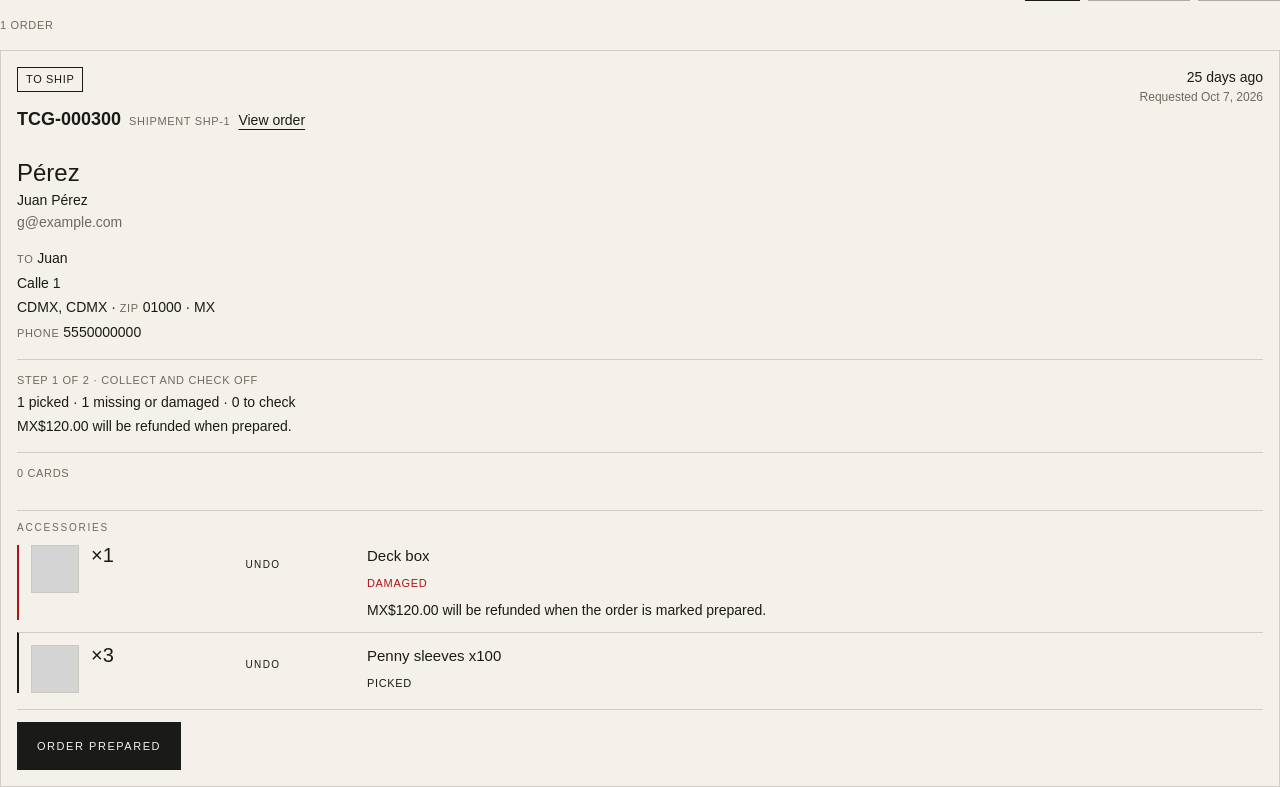
Test: QA §AC.gates · el diálogo de preparado habla del tipo de renglón que falta › EN · un solo accesorio faltante: ningún texto del diálogo dice «card»
This screenshot has width=1280, height=787.
(page scrolled)
Click the button "Order prepared" at coordinates (99, 746), box [17,722,181,770]
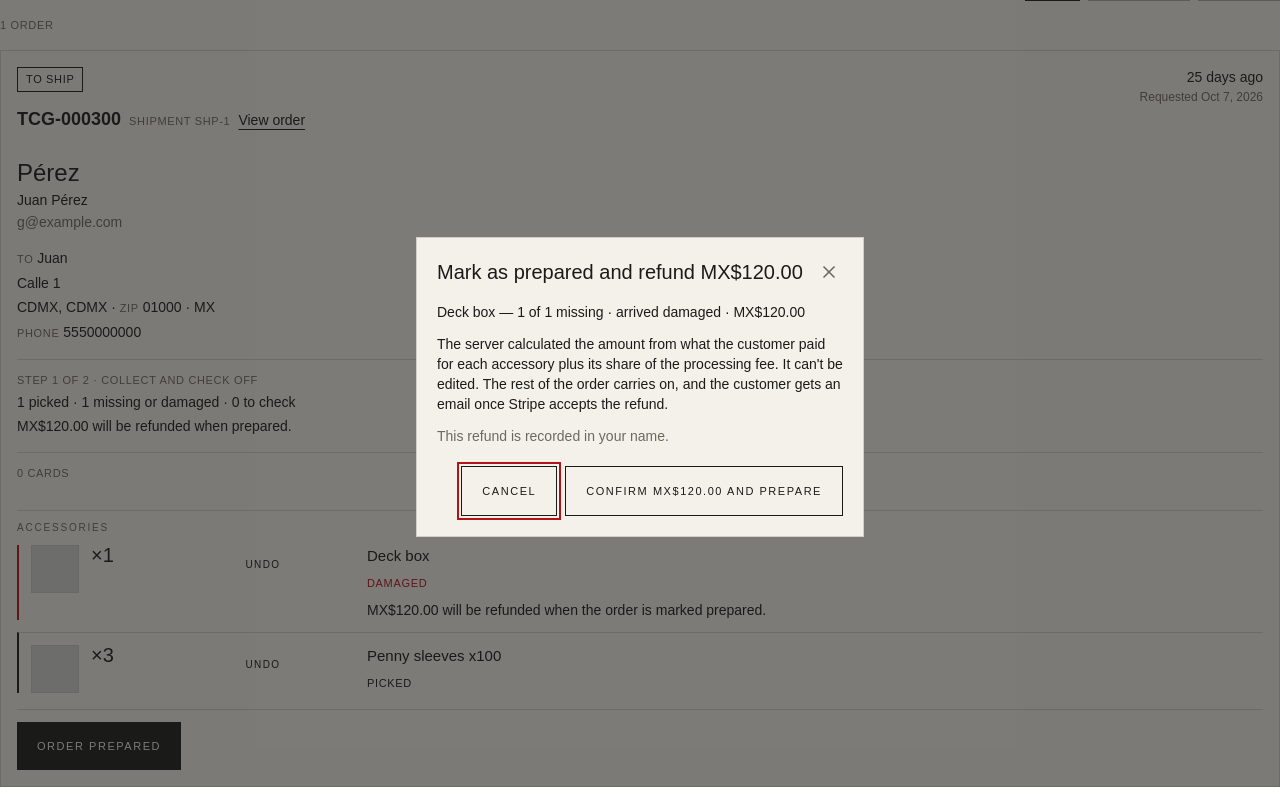
Result: the dialog shows "what the customer paid for each accessory" at [437,336,843,412]
